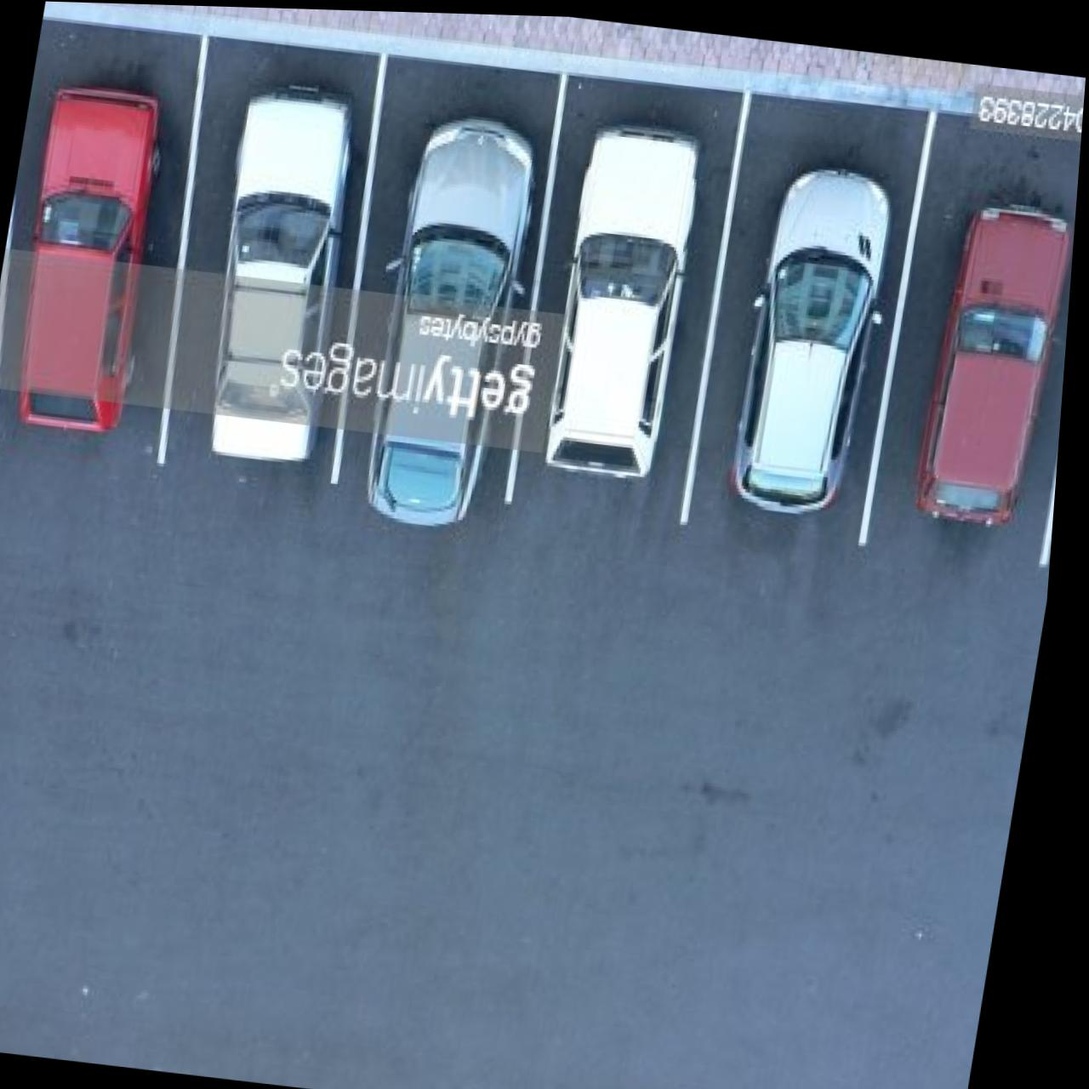cars: (686, 83, 925, 539), (512, 68, 748, 521), (857, 95, 1084, 559), (156, 41, 390, 479), (333, 65, 565, 502), (0, 22, 209, 455)
